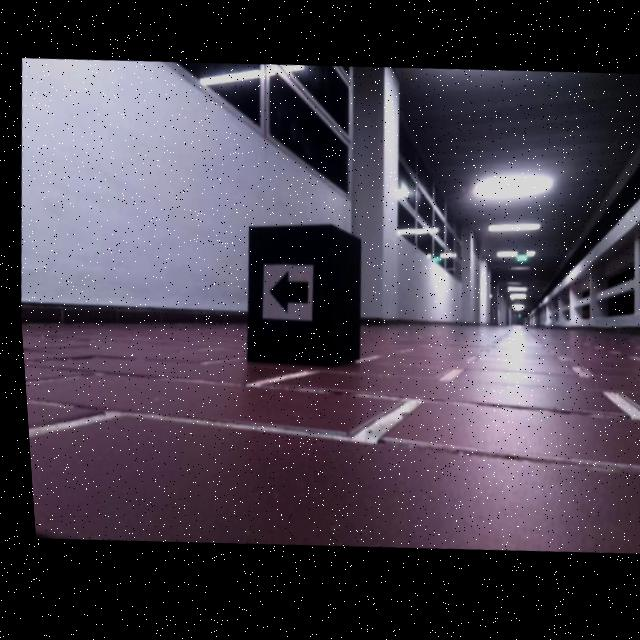LEFT: (264, 271, 304, 317)
